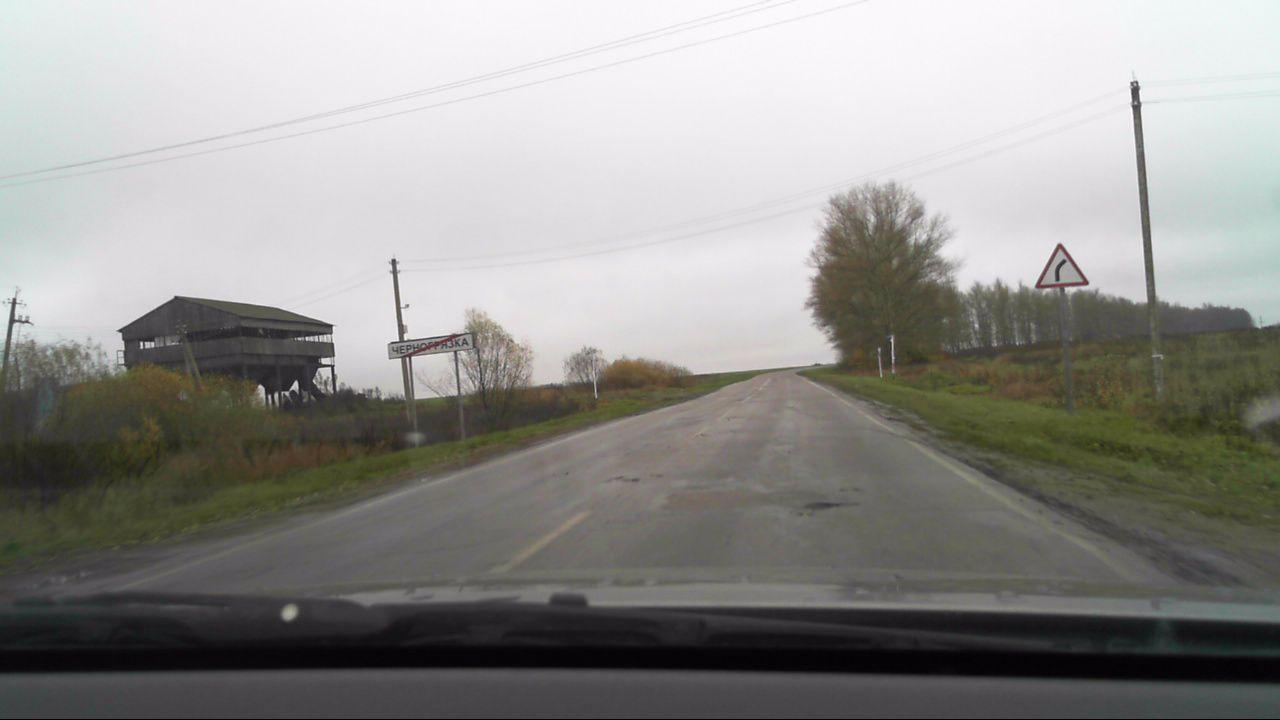1_11_1: (1027, 239, 1089, 290)
